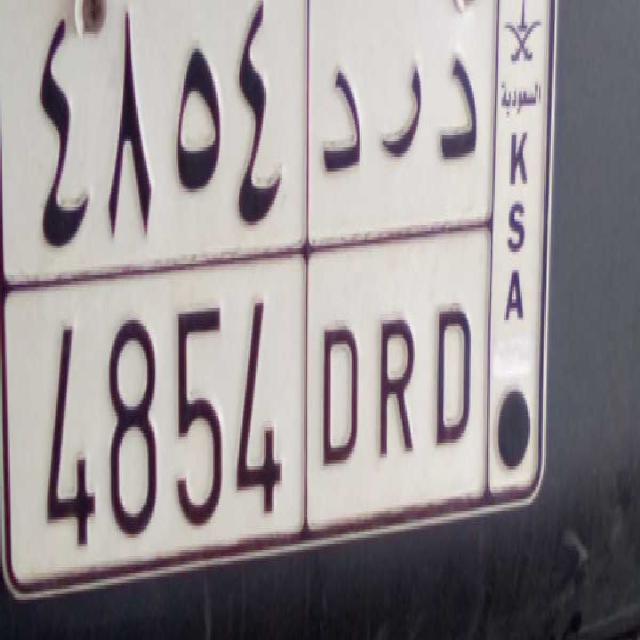license_plate: (18, 266, 479, 564)
